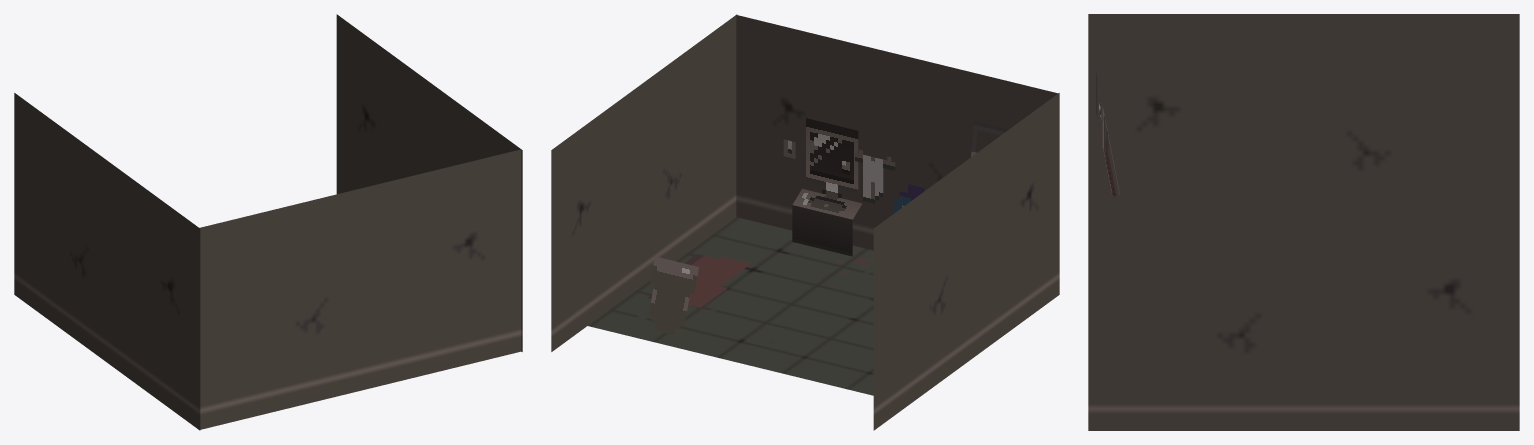
The model's file is BathRoom.fbx.
The picture shows the model from 3 angles, left to right: view 1: azimuth 30°, elevation 25°; view 2: azimuth 150°, elevation 25°; view 3: azimuth 270°, elevation 25°; orthographic projection. The views are drawn at different scales.
Visible parts, largest first — view 1: BATH_Wall, BATH_Wall2, BATH_Wall1; view 2: BATH_Wall2, BATH_Wall1, BATH_Wall, BATH_Ground, BATH_Sink, BATH_Toilet, BATH_Rug, BATH_Towel; view 3: BATH_Wall1, BATH_Wall2, BATH_Shower.
Boxes of the visible parts, x1,y1,x2,y2 form: BATH_Wall: [200, 149, 521, 429]; BATH_Wall2: [14, 93, 200, 430]; BATH_Wall1: [336, 14, 522, 351]; BATH_Wall2: [873, 93, 1059, 430]; BATH_Wall1: [551, 14, 737, 351]; BATH_Wall: [736, 15, 1057, 250]; BATH_Ground: [588, 217, 873, 395]; BATH_Sink: [792, 118, 862, 256]; BATH_Toilet: [648, 256, 698, 335]; BATH_Rug: [647, 254, 750, 307]; BATH_Towel: [855, 149, 895, 203]; BATH_Wall1: [1088, 196, 1519, 430]; BATH_Wall2: [1088, 14, 1519, 196]; BATH_Shower: [1096, 72, 1120, 196].
Size of the model in its own units: 1000 by 603 by 1000.
9 materials, 9 textured.
